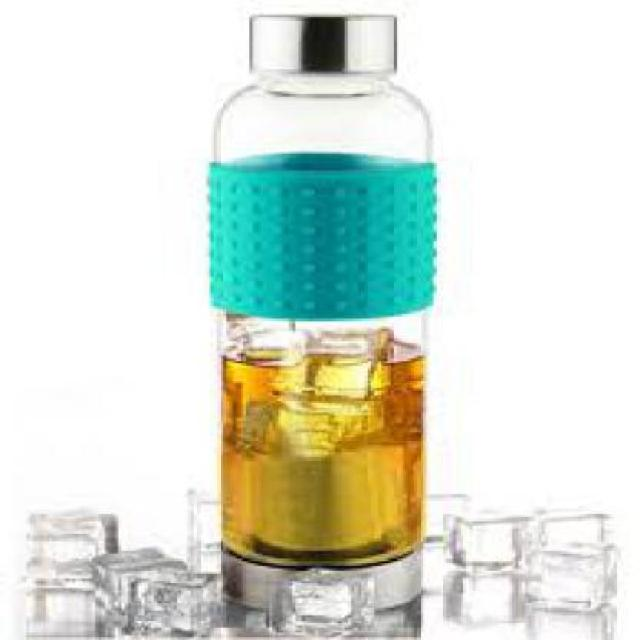Drinking: (191, 17, 489, 608)
